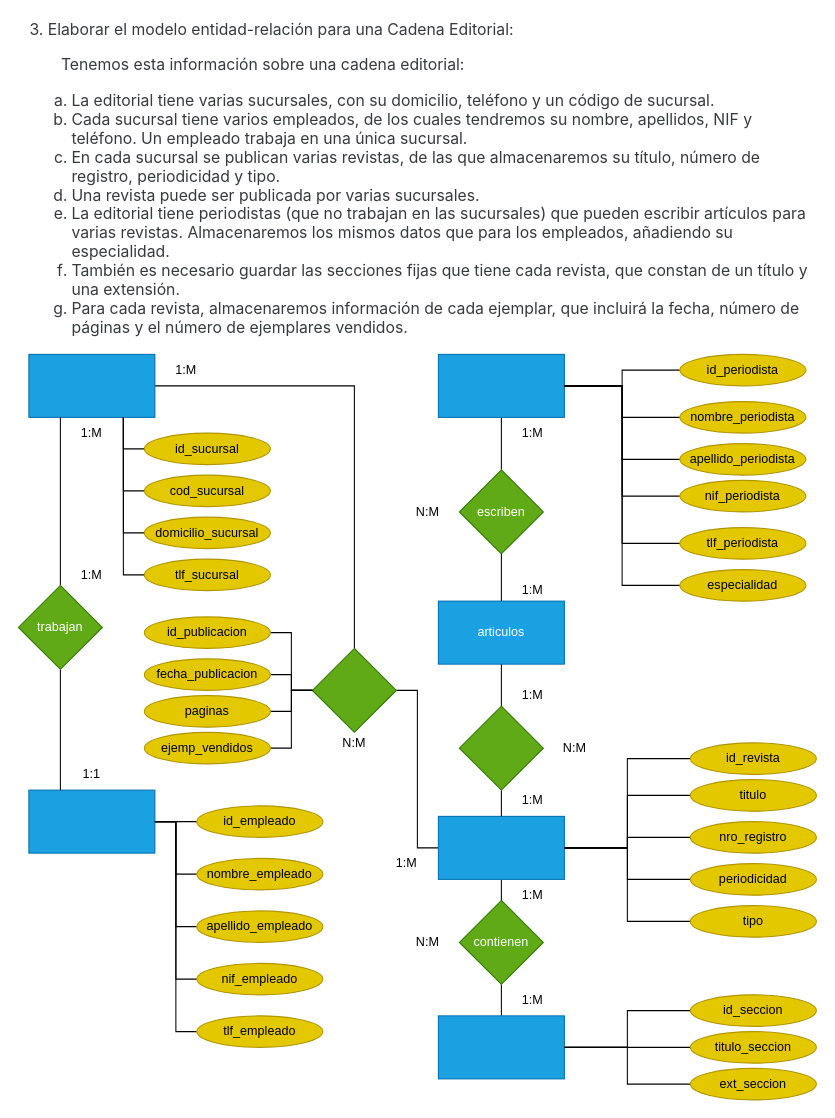
The diagram is 835 pixels wide and 1118 high, and some of its shapes have lost their labels. Each missing label, with the centre of its shape:
"aparecen" belongs at point 500,747.
"empleados" belongs at point 91,821.
"periodistas" belongs at point 500,385.
"publican" belongs at point 353,689.
"revistas" belongs at point 500,847.
"secciones" belongs at point 500,1047.
"sucursales" belongs at point 91,385.
